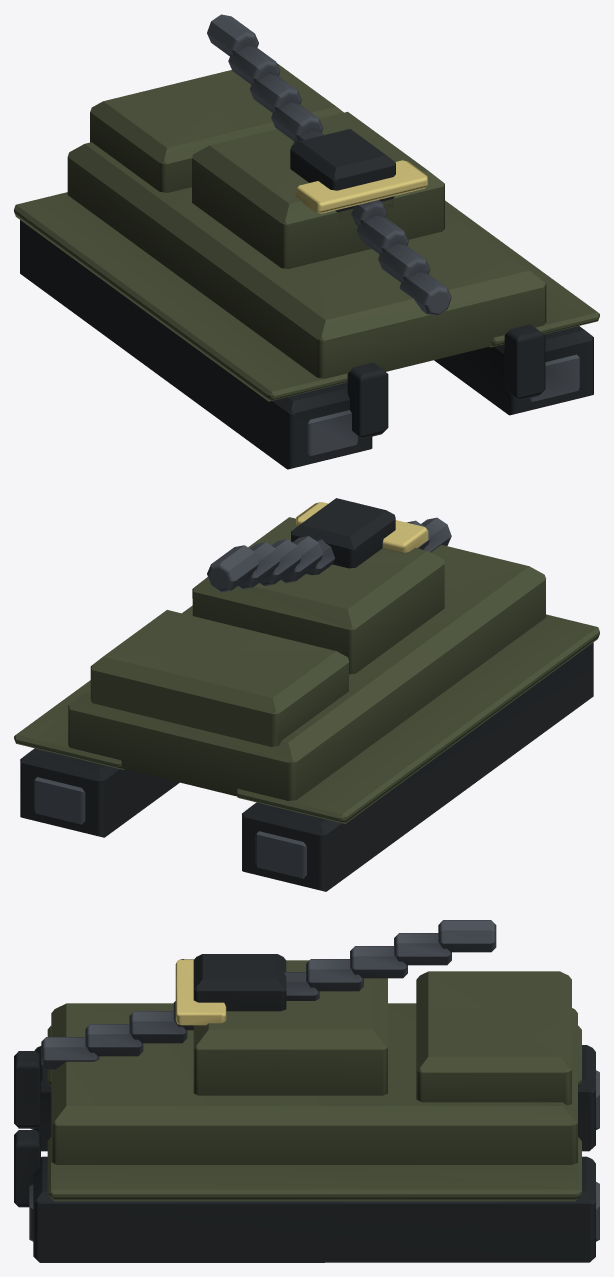
File: artillery_vehicle.glb
3 renders of one model, top to bottom at view 1: azimuth 30°, elevation 25°; view 2: azimuth 150°, elevation 25°; view 3: azimuth 270°, elevation 25°, orthographic. The views are drawn at different scales.
Parts seen in each view (by area): view 1: Body, Turret; view 2: Body, Turret; view 3: Body, Turret.
Boxes of the visible parts, box(x1,y1,x2,y2) form: Body: box(14, 63, 599, 469); Turret: box(192, 14, 451, 315); Body: box(14, 545, 599, 891); Turret: box(192, 498, 451, 674); Body: box(14, 971, 599, 1262); Turret: box(41, 920, 496, 1095).
Size of the model in its own units: 2.64 by 1.98 by 3.92.
